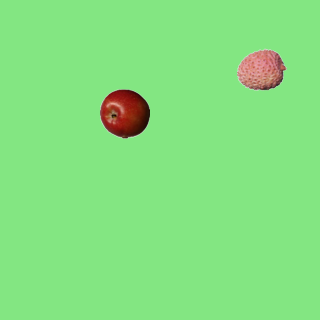Apple Braeburn: (99, 88, 149, 138)
Lychee: (236, 44, 286, 94)
